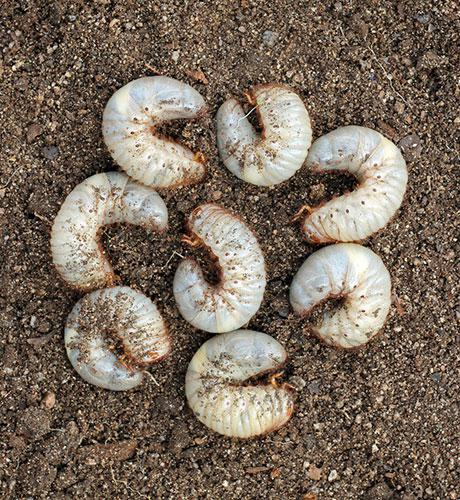grub: (288, 243, 399, 362)
